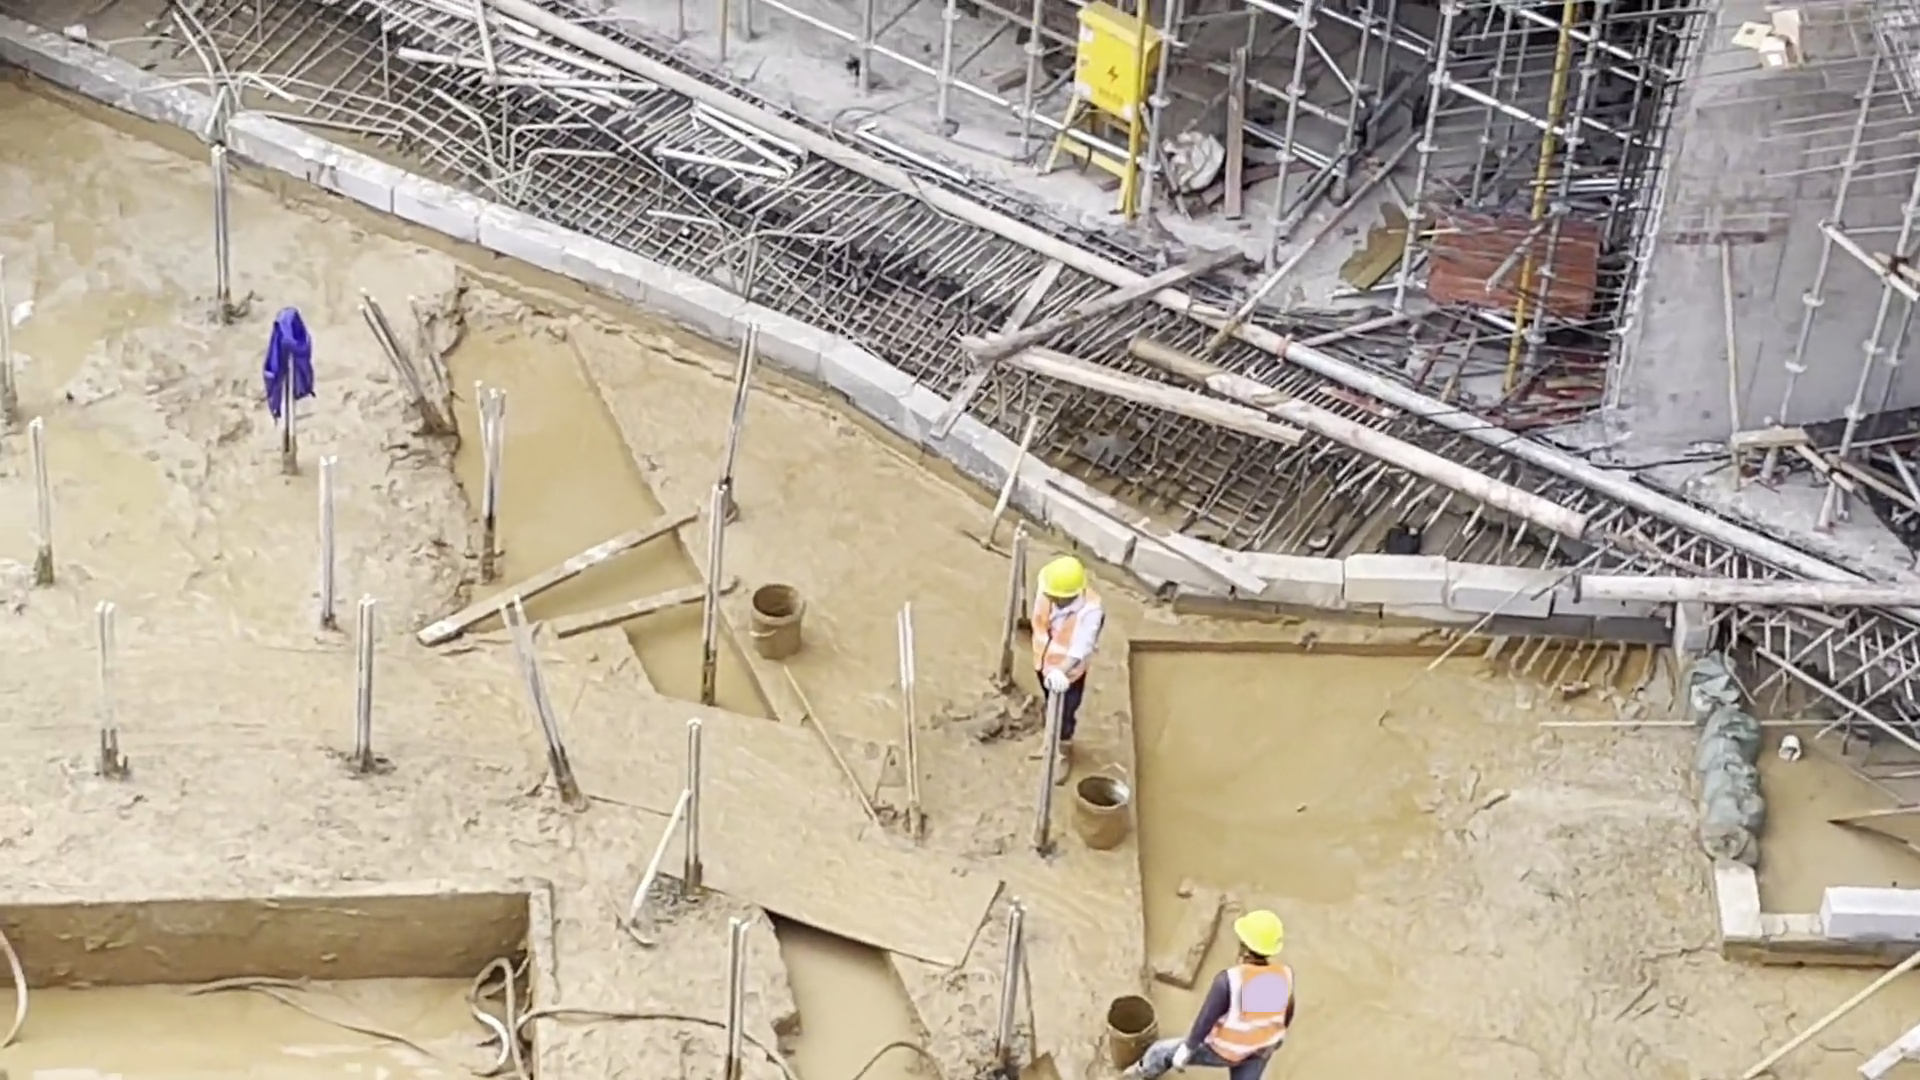helmet: (1230, 905, 1285, 958), (1036, 554, 1089, 600)
person: (1129, 900, 1302, 1080), (1030, 556, 1107, 767)
vest: (1211, 958, 1293, 1064), (1030, 597, 1100, 695)
